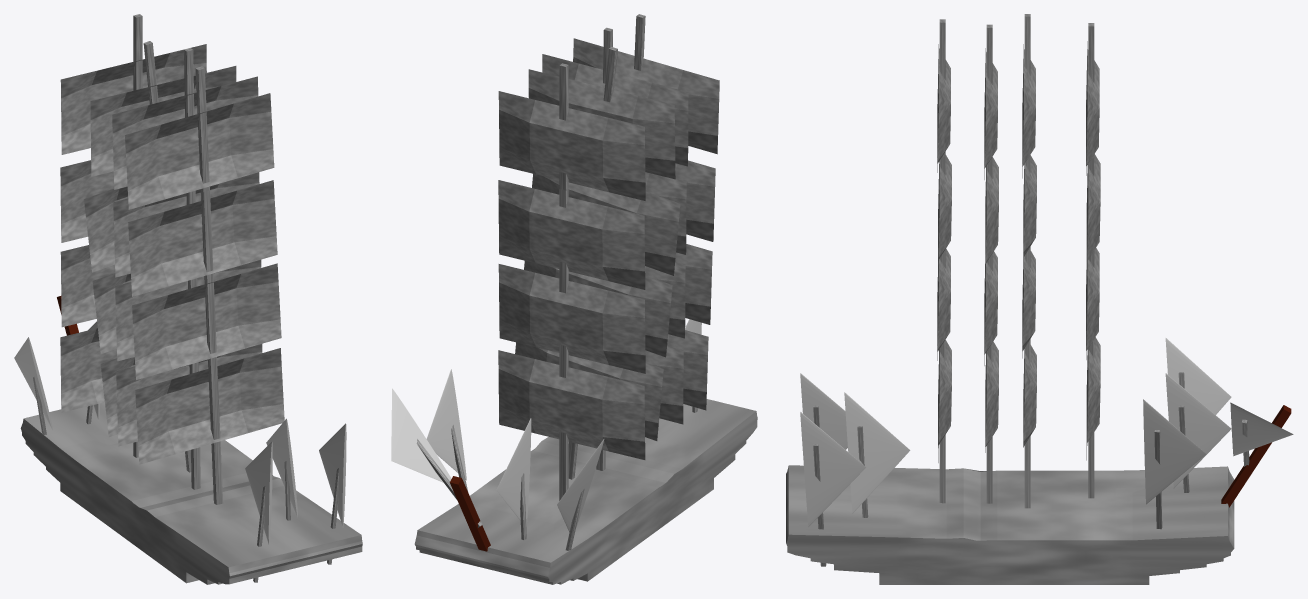
The model's file is clipper.obj.
The picture shows the model from 3 angles, left to right: view 1: azimuth 30°, elevation 25°; view 2: azimuth 150°, elevation 25°; view 3: azimuth 270°, elevation 25°; orthographic projection. The views are drawn at different scales.
Visible parts, largest first — view 1: Cube_Cube.010, Plane.009_Plane.037, Plane.008_Plane.036, Plane.007_Plane.035, Plane.010_Plane.038, Plane.015_Plane.017, Plane.013_Plane.041, Plane.002_Plane.032, Plane.004_Plane.008, Cube.013_Cube.030, Plane.005_Plane.009, Plane.014_Plane.042 (+15 smaller); view 2: Cube_Cube.010, Plane.016_Plane.018, Plane.015_Plane.017, Plane.005_Plane.009, Plane.004_Plane.008, Plane.002_Plane.032, Plane.008_Plane.036, Plane.001_Plane.031, Plane.013_Plane.041, Plane.003_Plane.033, Plane.006_Plane.034, Cone.001 (+14 smaller); view 3: Cube_Cube.010, Cone.004, Cone.006, Cone, Cone.002, Cone.005, Cone.003, Cone.001, Plane.002_Plane.032, Plane.016_Plane.018, Plane.004_Plane.008, Plane.015_Plane.017 (+17 smaller).
Part boxes in pixels (x1=…): Cube_Cube.010: x1=20, y1=402, x2=362, y2=584; Plane.009_Plane.037: x1=132, y1=263, x2=281, y2=379; Plane.008_Plane.036: x1=125, y1=93, x2=274, y2=209; Plane.007_Plane.035: x1=128, y1=180, x2=277, y2=296; Plane.010_Plane.038: x1=135, y1=348, x2=284, y2=464; Plane.015_Plane.017: x1=60, y1=44, x2=206, y2=154; Plane.013_Plane.041: x1=112, y1=76, x2=258, y2=189; Plane.002_Plane.032: x1=90, y1=66, x2=236, y2=176; Plane.004_Plane.008: x1=60, y1=328, x2=116, y2=412; Cube.013_Cube.030: x1=200, y1=190, x2=223, y2=504; Plane.005_Plane.009: x1=60, y1=245, x2=115, y2=327; Plane.014_Plane.042: x1=113, y1=172, x2=259, y2=277; Cube_Cube.010: x1=414, y1=399, x2=757, y2=584; Plane.016_Plane.018: x1=498, y1=180, x2=645, y2=289; Plane.015_Plane.017: x1=498, y1=91, x2=645, y2=200; Plane.005_Plane.009: x1=498, y1=264, x2=645, y2=373; Plane.004_Plane.008: x1=498, y1=350, x2=645, y2=459; Plane.002_Plane.032: x1=528, y1=69, x2=675, y2=179; Plane.008_Plane.036: x1=573, y1=38, x2=719, y2=154; Plane.001_Plane.031: x1=532, y1=174, x2=680, y2=275; Plane.013_Plane.041: x1=542, y1=54, x2=688, y2=166; Plane.003_Plane.033: x1=524, y1=261, x2=672, y2=357; Plane.006_Plane.034: x1=515, y1=342, x2=663, y2=440; Cone.001: x1=391, y1=388, x2=451, y2=482; Cube_Cube.010: x1=786, y1=465, x2=1234, y2=584; Cone.004: x1=800, y1=412, x2=865, y2=526; Cone.006: x1=844, y1=392, x2=910, y2=513; Cone: x1=1143, y1=399, x2=1206, y2=504; Cone.002: x1=1165, y1=373, x2=1231, y2=488; Cone.005: x1=1165, y1=338, x2=1231, y2=414; Cone.003: x1=800, y1=373, x2=847, y2=449; Cone.001: x1=1230, y1=402, x2=1293, y2=456; Plane.002_Plane.032: x1=1022, y1=44, x2=1035, y2=178; Plane.016_Plane.018: x1=1086, y1=154, x2=1100, y2=278; Plane.004_Plane.008: x1=1086, y1=337, x2=1100, y2=460; Plane.015_Plane.017: x1=1086, y1=41, x2=1099, y2=175.
Size of the model in its own units: 4.3 by 10.36 by 9.22.
